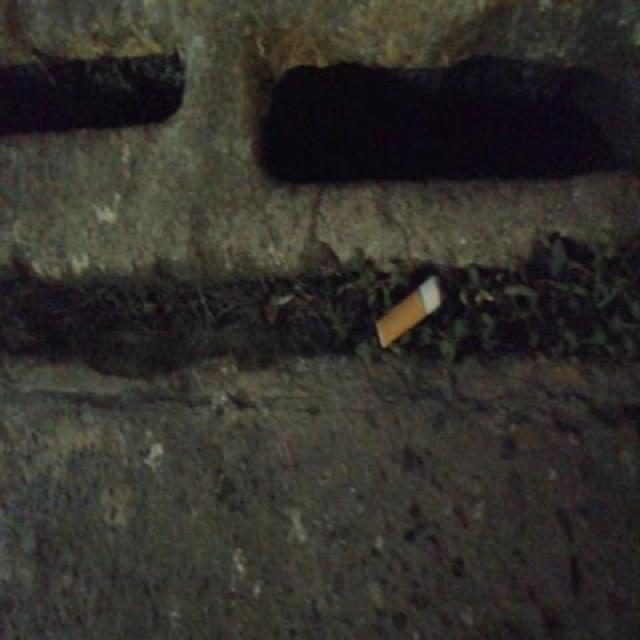non-organic waste: (371, 271, 449, 353)
